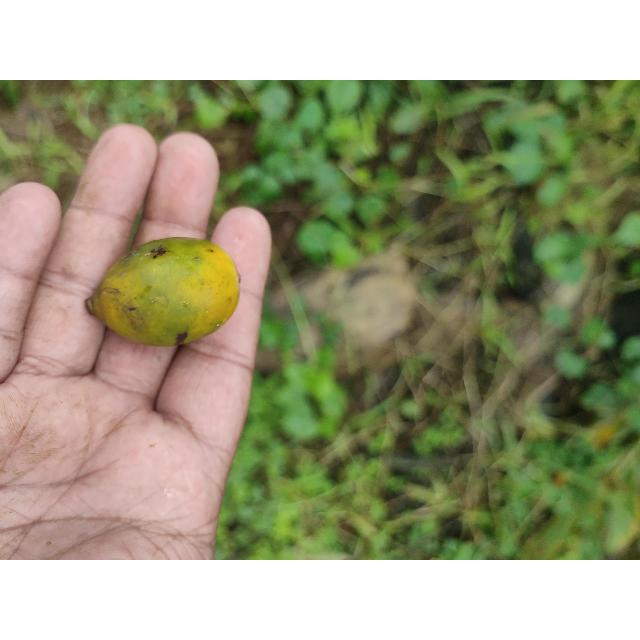good: (85, 238, 241, 349)
